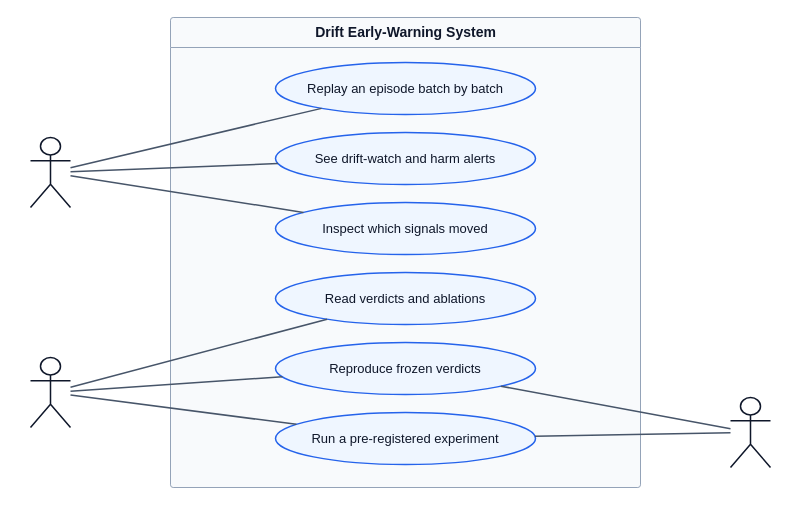
Image size: 793x508. Some labels were removed from this diagram. The shapes that lost their labels are listed below. From the top down, each one's box as (x1, y1, x2, y2) in pixels, then its label:
(29, 136, 71, 208): ML engineer
(29, 356, 71, 428): Researcher / examiner
(729, 396, 771, 468): OpenML
